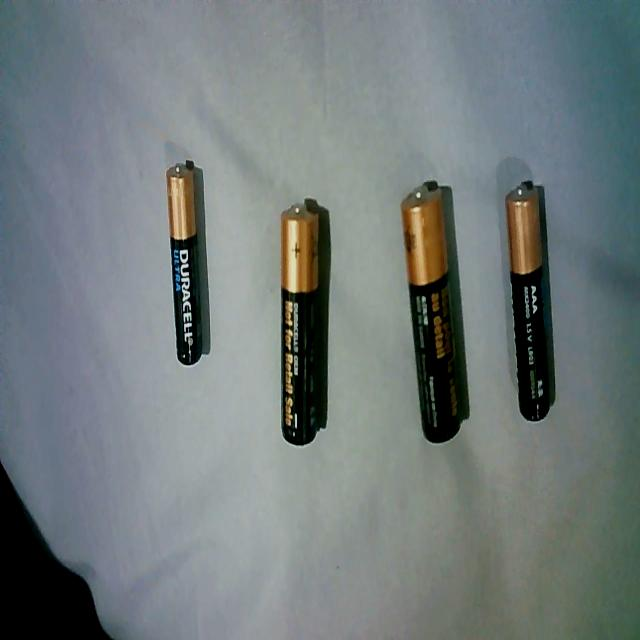AA: (398, 176, 473, 448), (276, 195, 330, 450)
AAA: (502, 177, 558, 426), (162, 153, 215, 370)
